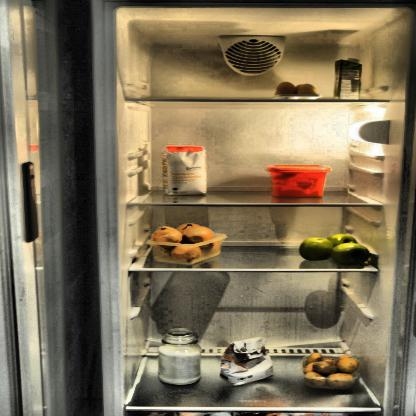apple: (298, 232, 371, 268)
butter: (264, 162, 332, 198)
eggs: (272, 80, 323, 100)
heavy_cream: (332, 56, 364, 102)
onion: (154, 223, 220, 262)
potato: (298, 350, 363, 391)
